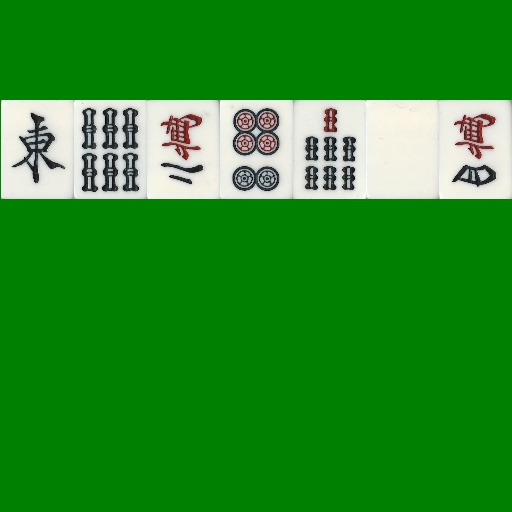2m: (147, 100, 220, 199)
4m: (439, 100, 512, 199)
6p: (220, 100, 293, 199)
6s: (74, 100, 147, 199)
7s: (293, 100, 366, 199)
east: (1, 100, 74, 199)
white: (366, 100, 439, 199)
